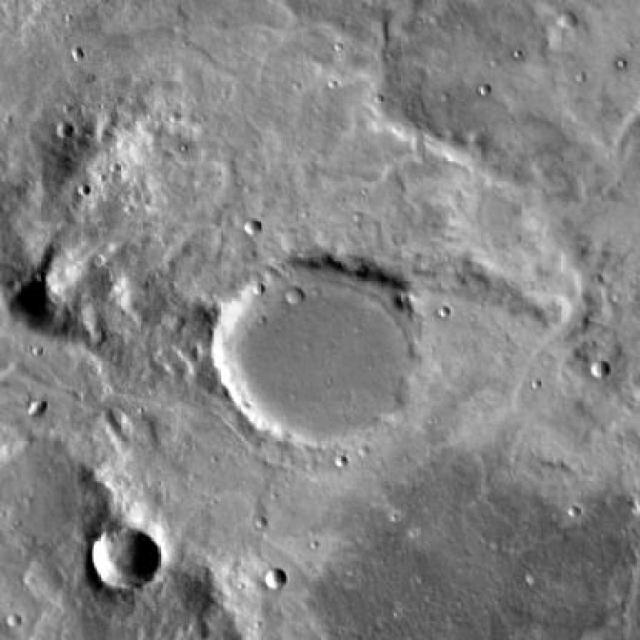crater: (211, 254, 420, 454), (88, 526, 155, 591), (284, 289, 302, 308), (241, 221, 259, 239), (53, 119, 72, 136), (564, 9, 582, 26), (30, 397, 48, 414), (266, 572, 283, 588)
